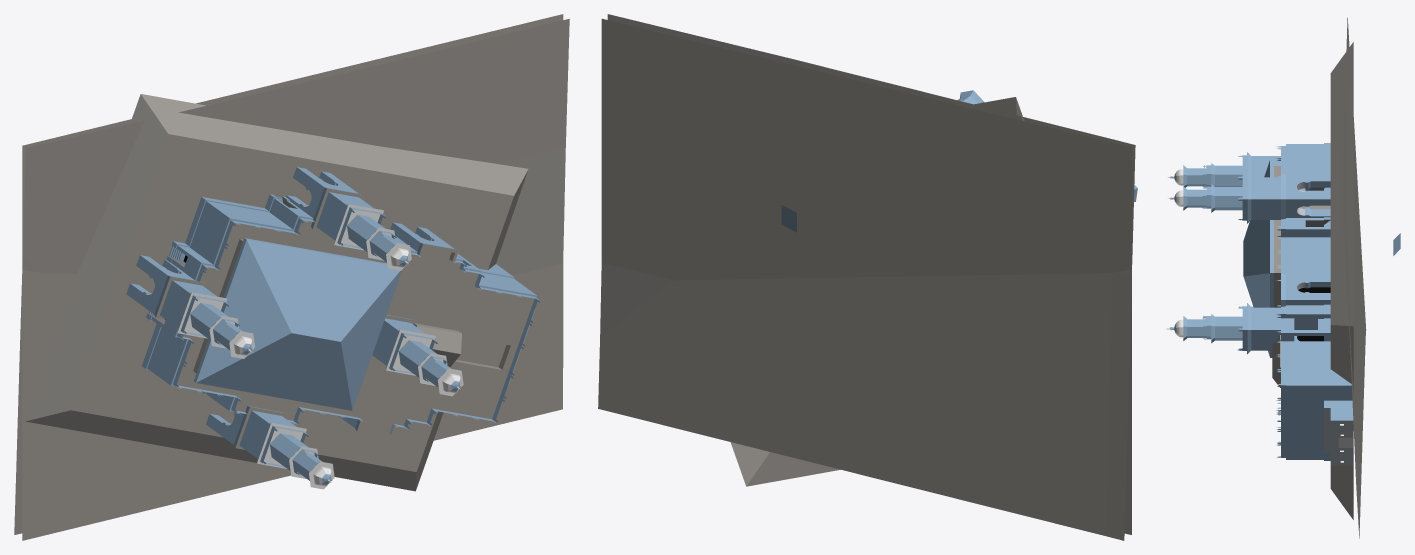
Rendered from msjid.glb.
The picture shows the model from 3 angles, left to right: view 1: azimuth 30°, elevation 25°; view 2: azimuth 150°, elevation 25°; view 3: azimuth 270°, elevation 25°; orthographic projection. The views are drawn at different scales.
Parts seen in each view (by area): view 1: obj1887, obj21, obj1920, obj1849, obj10, obj1850, obj6, obj8, obj7, obj20, obj1826, obj9 (+22 smaller); view 2: obj21, obj14, obj16, obj18, obj15, obj17, obj13, obj12, obj19, obj1826, obj8, obj5 (+2 smaller); view 3: obj1850, obj1851, obj14, obj16, obj1843, obj1938, obj430, obj309, obj18, obj429, obj524, obj522 (+15 smaller).
Part boxes in pixels (x1,y1,x2,y2): obj1887: (71,134,513,471); obj21: (22,14,563,540); obj1920: (177,220,534,433); obj1849: (25,94,168,421); obj10: (380,64,566,155); obj1850: (141,94,528,195); obj6: (42,144,128,271); obj8: (383,18,569,89); obj7: (256,64,382,146); obj20: (496,147,565,271); obj1826: (25,410,416,491); obj9: (446,90,567,163); obj21: (601,18,1131,534); obj14: (858,273,1112,535); obj16: (780,273,1109,453); obj18: (600,278,784,454); obj15: (780,273,1110,473); obj17: (598,339,778,453); obj13: (1105,276,1124,535); obj12: (1113,272,1131,523); obj19: (600,271,672,338); obj1826: (746,452,840,486); obj8: (607,14,790,60); obj5: (909,89,1115,141); obj1850: (1330,42,1353,326); obj1851: (1330,325,1353,385); obj14: (1353,133,1365,430); obj16: (1353,142,1361,464); obj1843: (1330,465,1353,519); obj1938: (1330,420,1353,465); obj430: (1251,177,1280,199); obj309: (1251,307,1280,329); obj18: (1353,333,1361,484); obj429: (1251,199,1280,219); obj524: (1243,225,1269,276); obj522: (1243,220,1269,266).
Size of the model in its own units: 4864 by 3992 by 2284.
